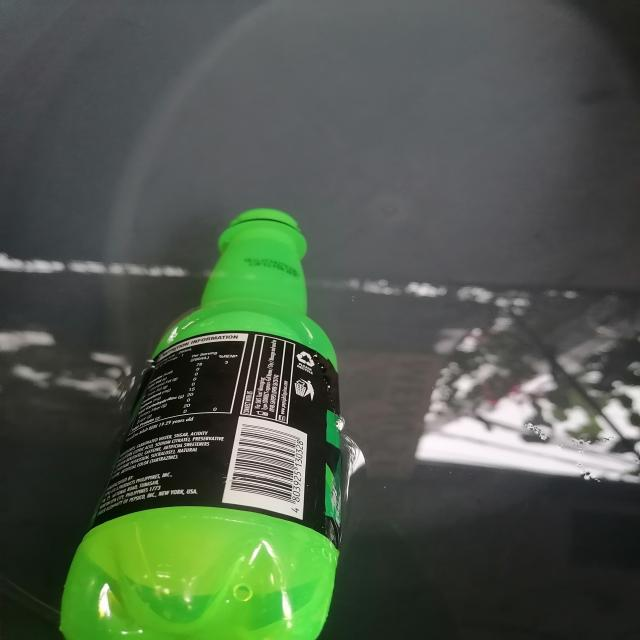Plastic Bottle: (60, 208, 359, 640)
